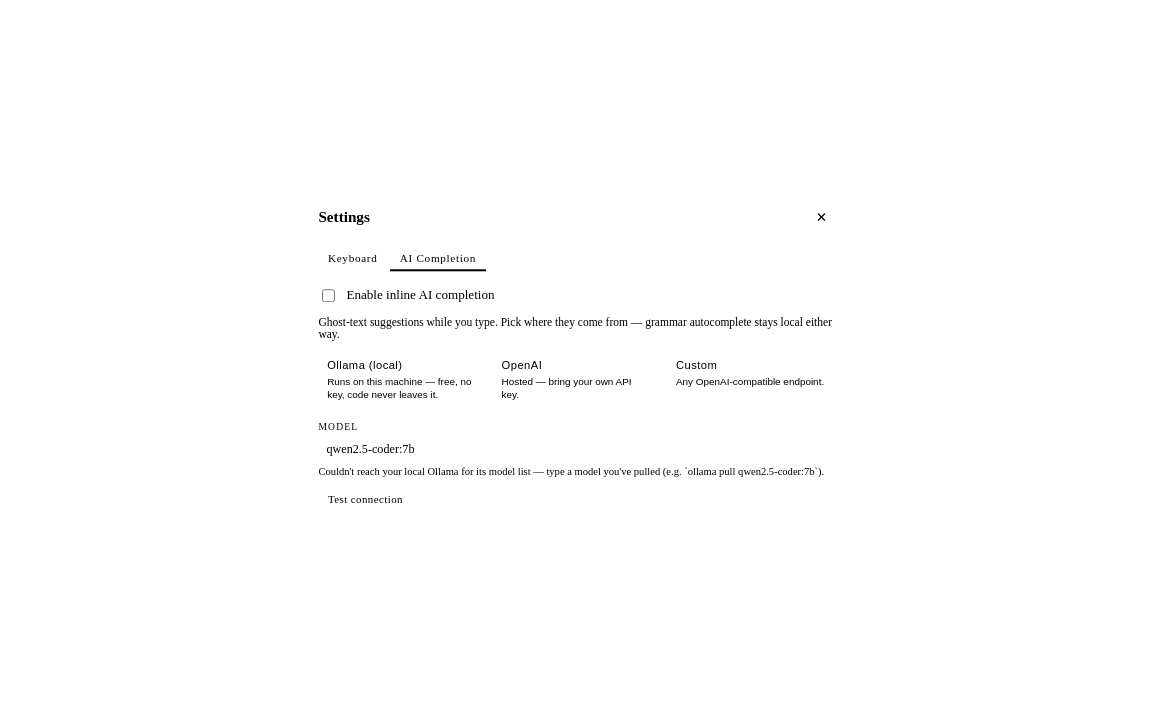
Test case: Settings › Test connection reports a classified failure with its hint
The width and height of the screenshot is (1152, 720).
Click the button with test id "llm-test": (365, 500) [318,489,412,510]
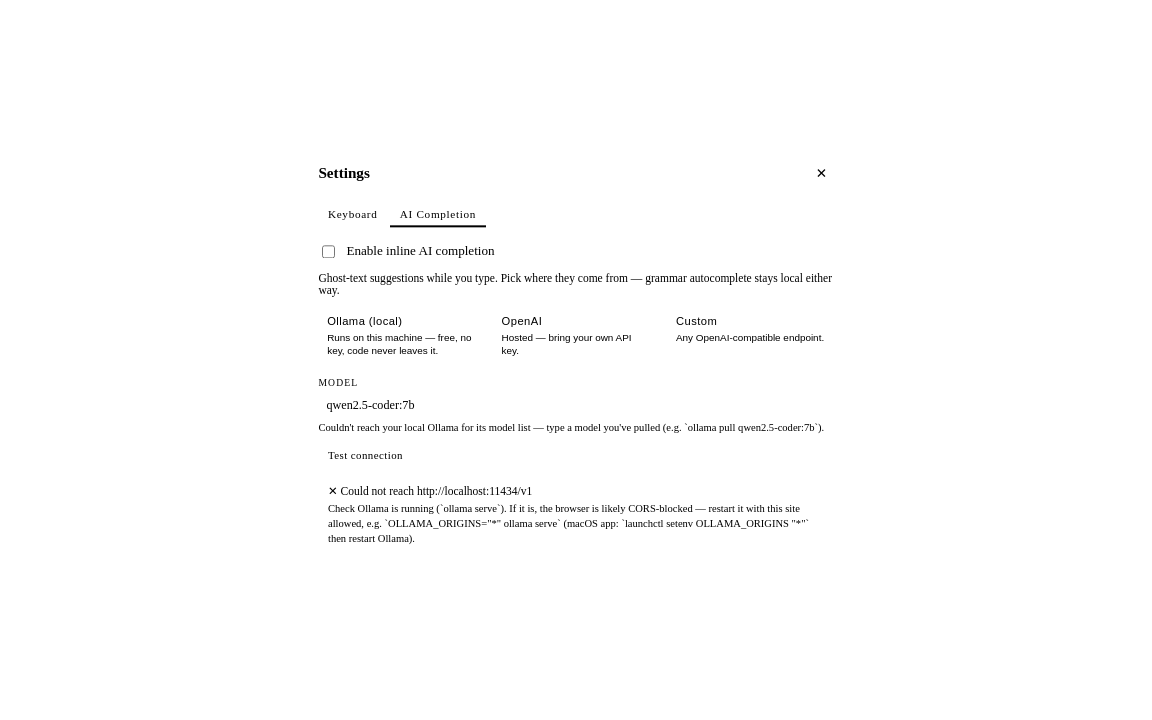
Result: the element with test id "llm-test-result" shows "Could not reach" at [328,486,532,498]
Result: the element with test id "llm-test-result" shows "OLLAMA_ORIGINS" at [328,504,809,544]
